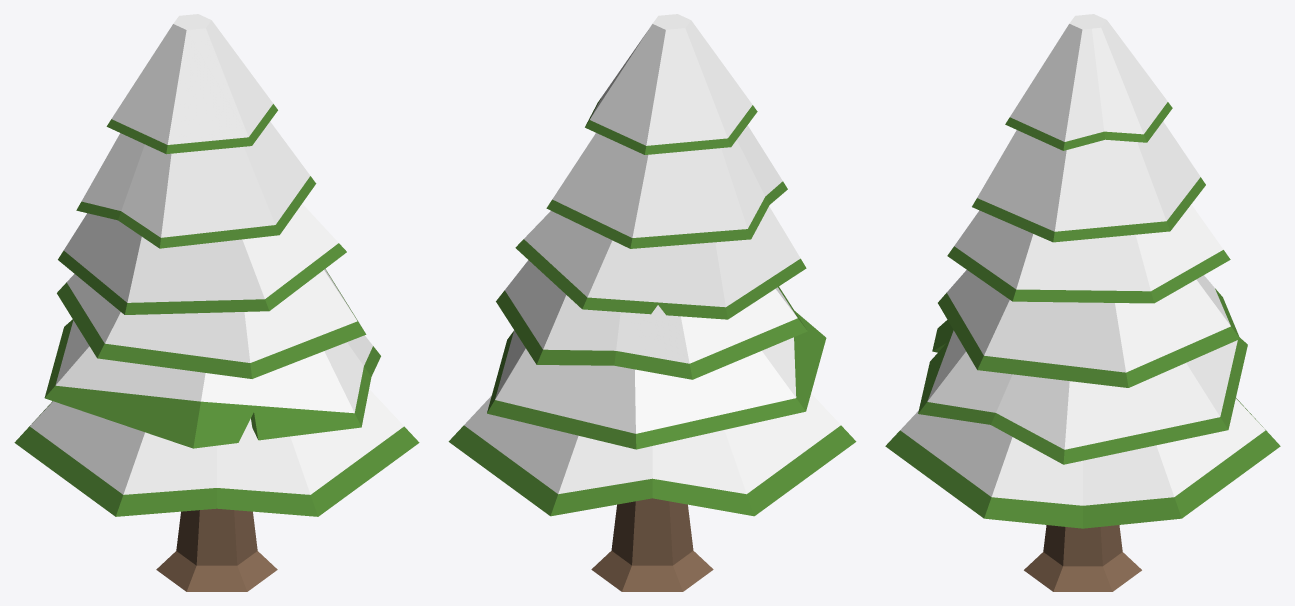
Rendered from tree 5.fbx.
The picture shows the model from 3 angles, left to right: view 1: azimuth 30°, elevation 25°; view 2: azimuth 150°, elevation 25°; view 3: azimuth 270°, elevation 25°; orthographic projection. The views are drawn at different scales.
Parts seen in each view (by area): view 1: Tree 5; view 2: Tree 5; view 3: Tree 5.
Boxes of the visible parts, <box> form: Tree 5: <box>14,14,419,591</box>; Tree 5: <box>448,14,856,591</box>; Tree 5: <box>885,14,1280,591</box>.
Size of the model in its own units: 214 by 356 by 237.
1 material, 1 textured.
